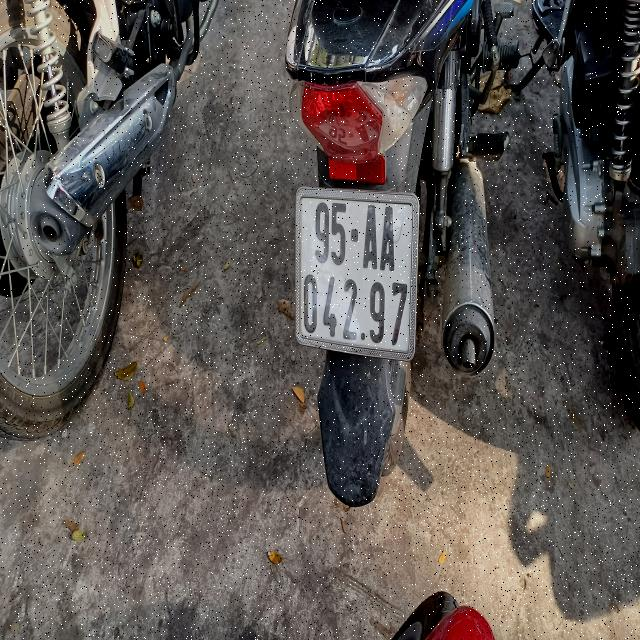0: (303, 271, 320, 337)
2: (344, 279, 359, 340)
4: (323, 271, 337, 337)
5: (329, 198, 346, 268)
7: (392, 280, 409, 350)
9: (368, 280, 384, 344), (314, 201, 330, 262)
A: (380, 205, 395, 271), (363, 204, 378, 268)
